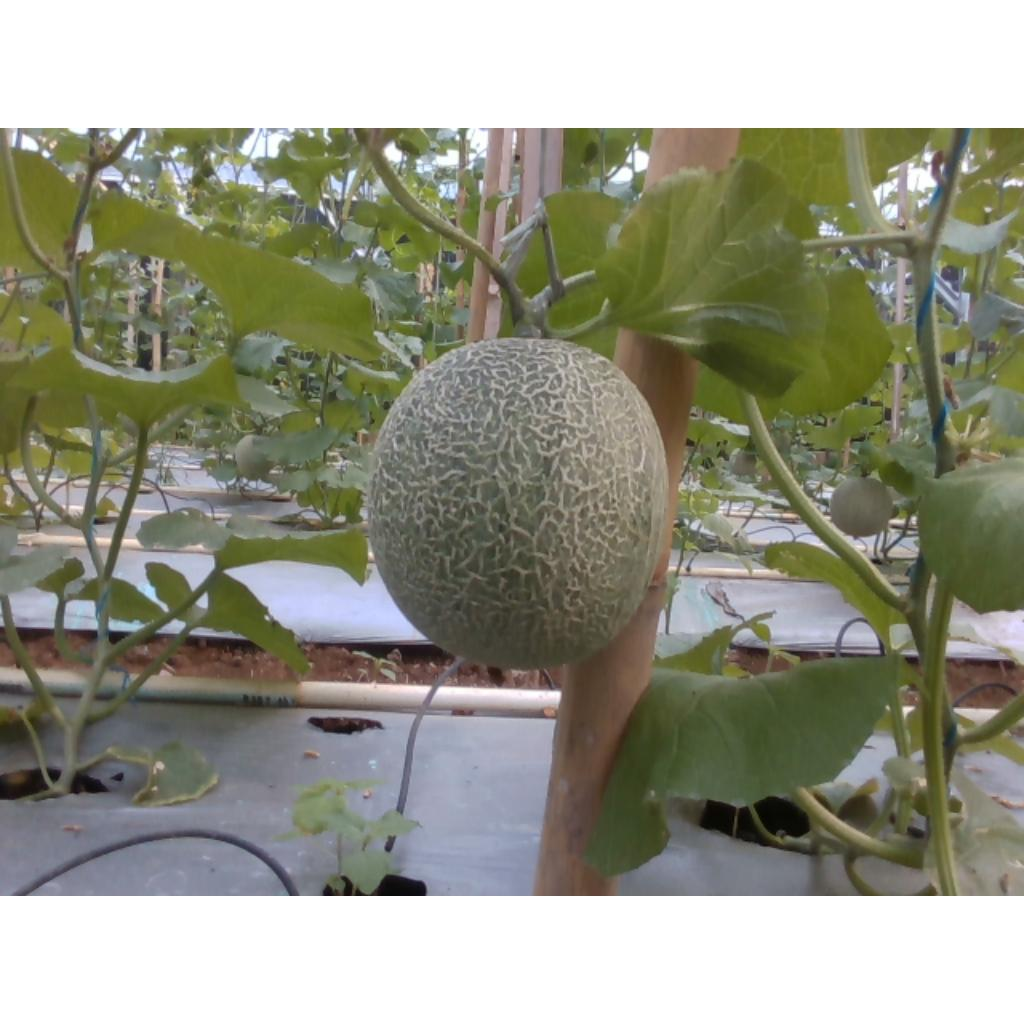melon: (371, 339, 666, 668)
